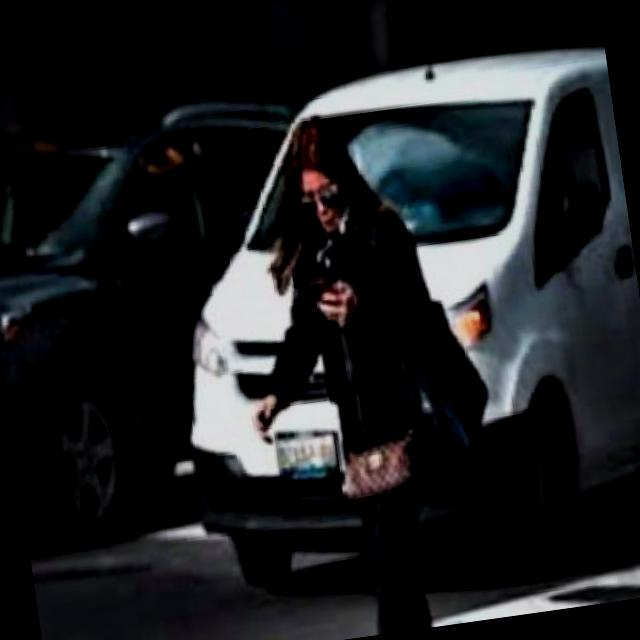Person: (205, 92, 471, 640)
